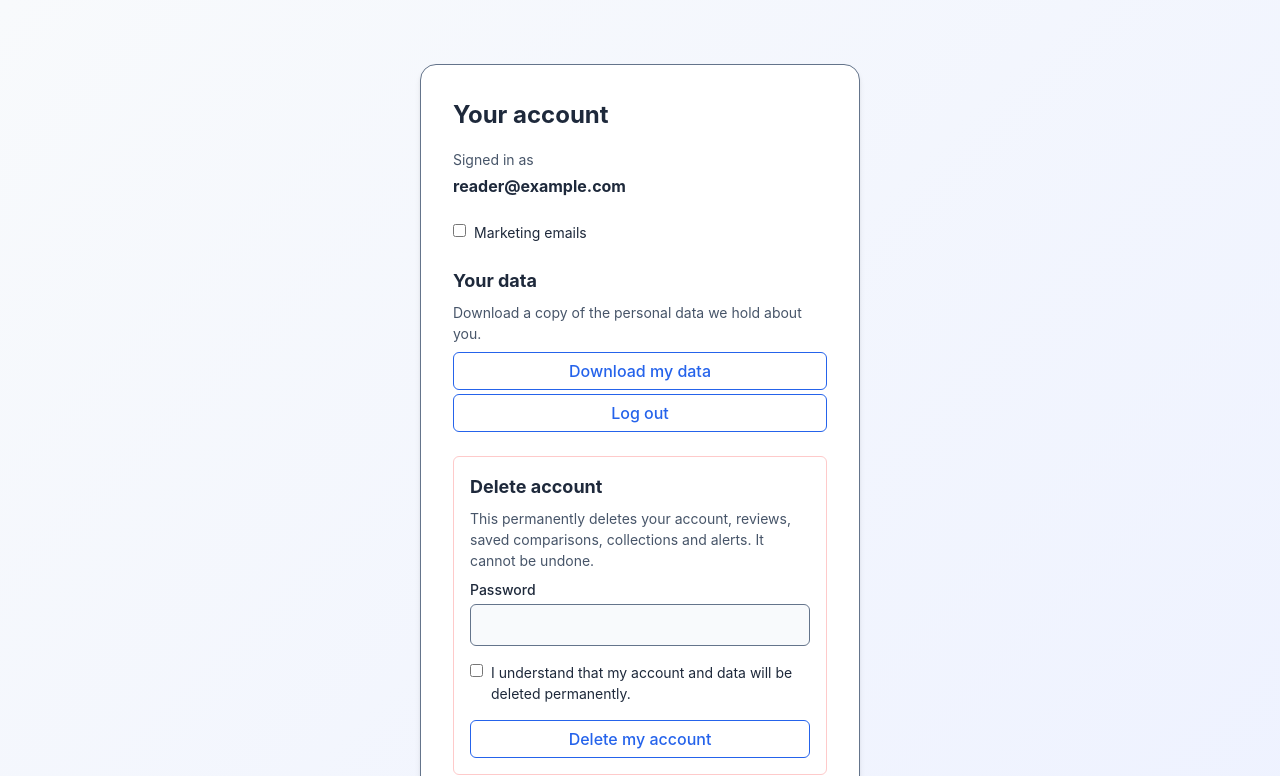
AccountPage › delete account › shows a generic error when deletion fails for another reason
The image size is (1280, 776).
Type "pw-12345" into the password field labelled "Password" at (640, 625), box [470,604,810,646]
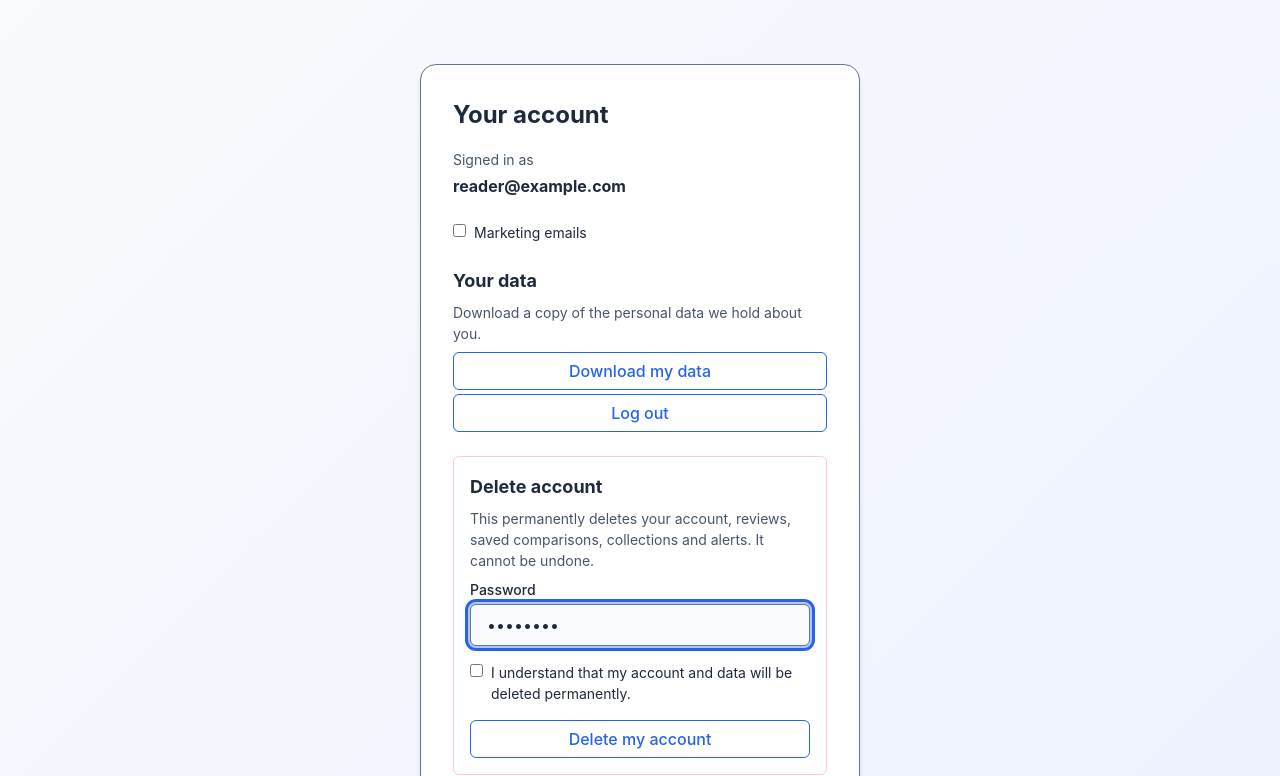
Click the checkbox labelled "I understand" at (476, 670), box [470,664,483,677]
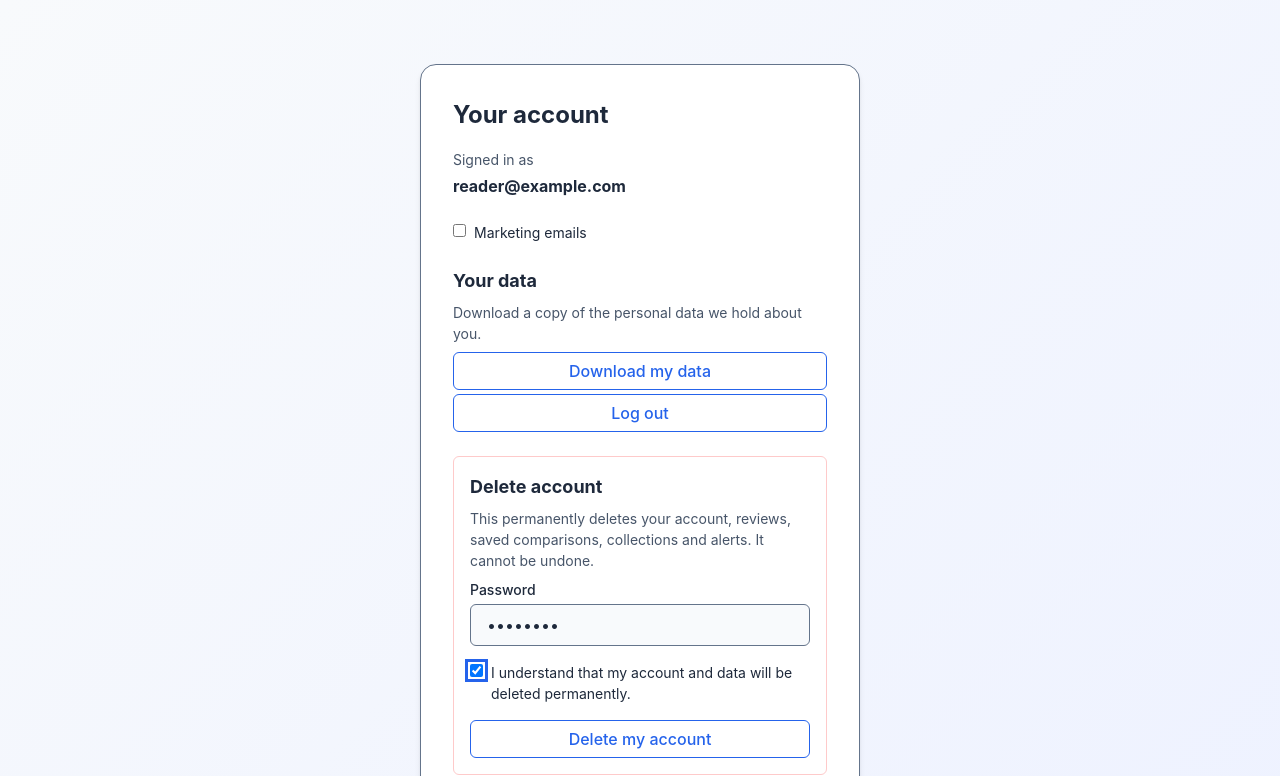
Click the button "Delete my account" at (640, 739), box [470,720,810,758]
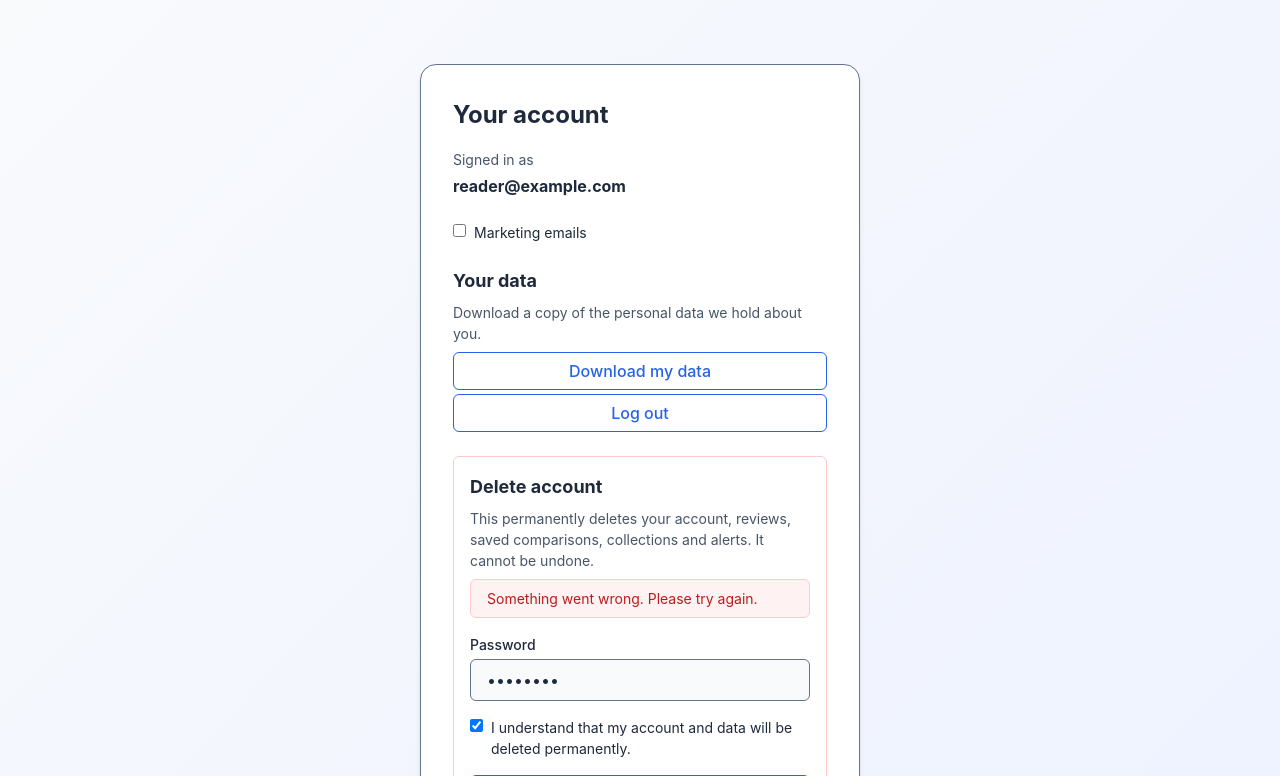
Now the message reads "Something went wrong. Please try again.", box [487,590,758,607]
